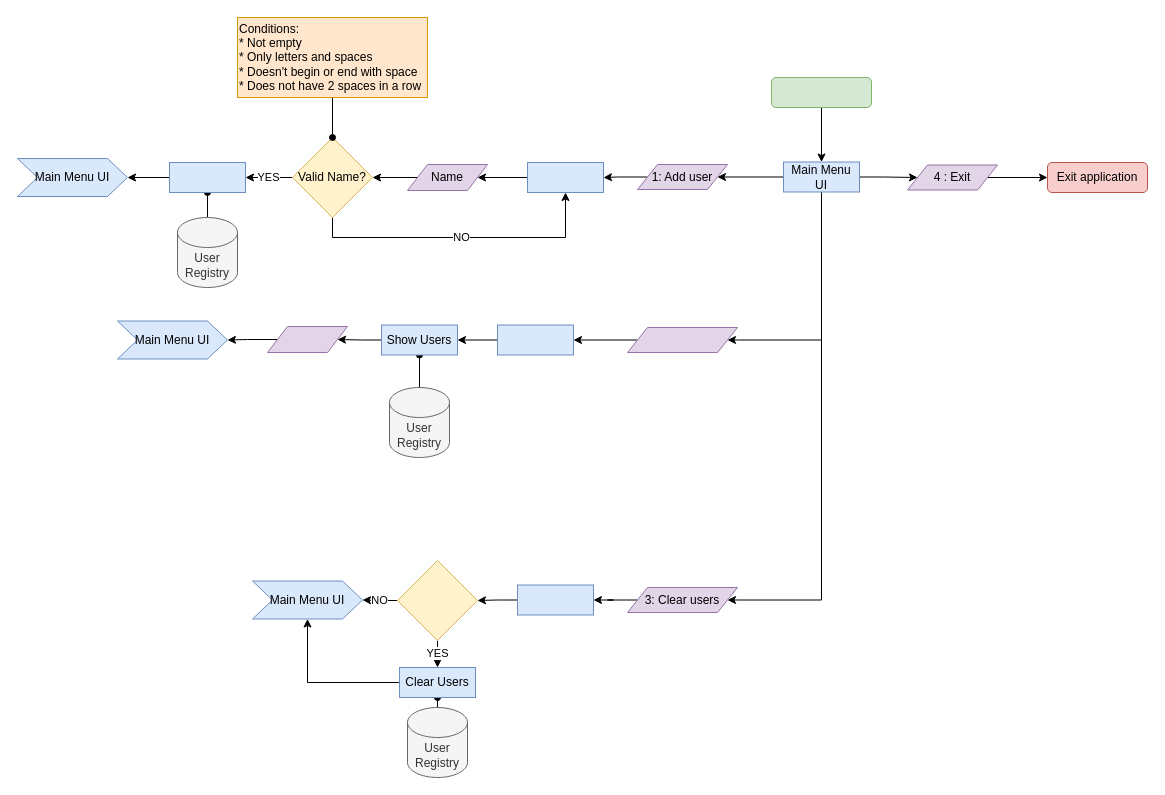
Image size: 1165x795. Some labels were removed from this diagram. The centre of each missing label's shape, as x and y in pixels:
"2: Show users" belongs at (682,339).
"Add User" belongs at (207,177).
"Add User UI" belongs at (565,177).
"Any key" belongs at (307,339).
"Clear Users UI" belongs at (555,599).
"Confirm?" belongs at (437,600).
"Show Users UI" belongs at (535,339).
"Start application" belongs at (821,92).
